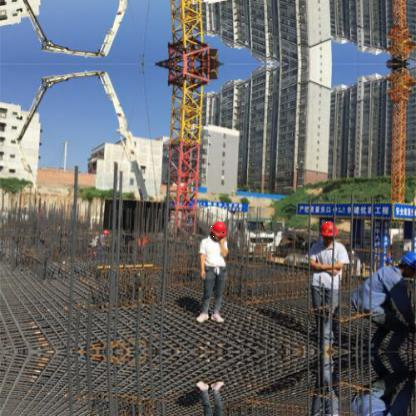safetyhelmet: (208, 222, 229, 248), (320, 219, 338, 240)
